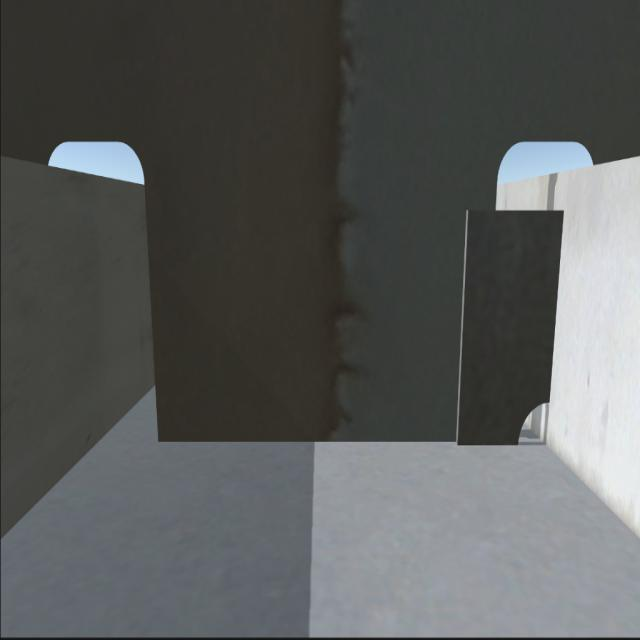fillet_hole: (513, 396, 546, 451)
fillet_yong_jeop_jang: (160, 437, 518, 450)
longi_yong_jeop_jang: (552, 212, 564, 407)
plate_CP01: (458, 211, 547, 440)
